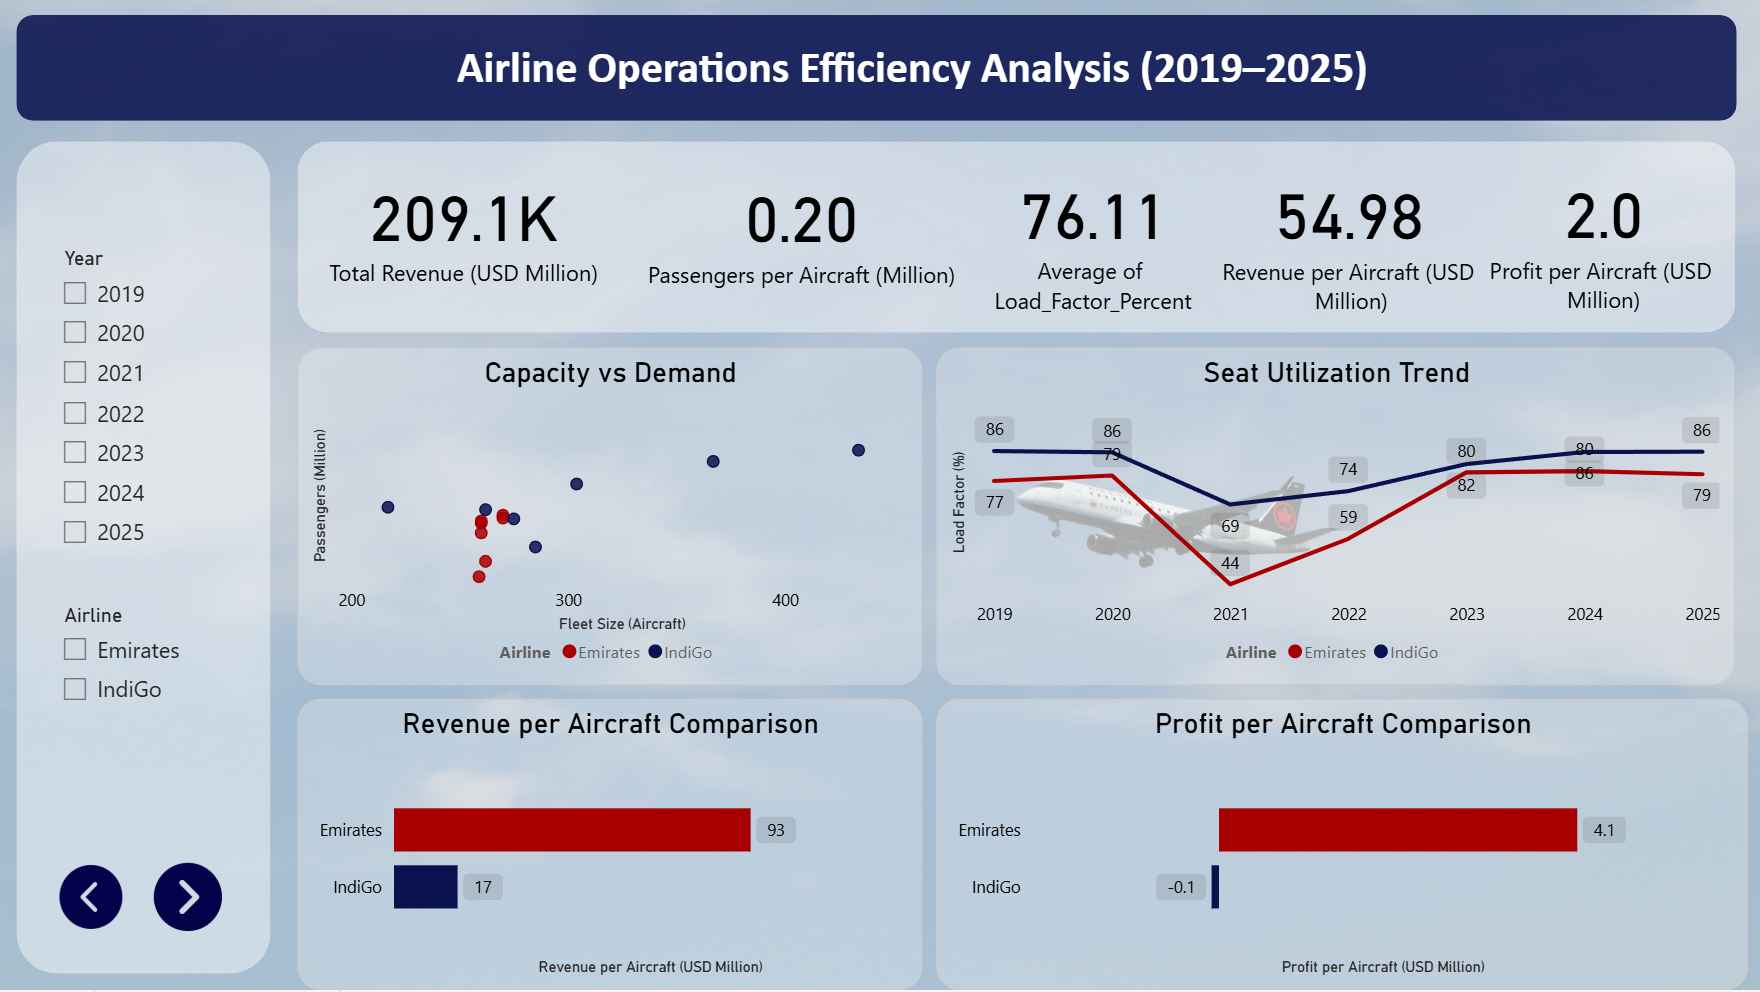

Layout of this report page (visuals, bound fields, positions):
{"tool":"powerbi","page":{"name":"Operational Efficiency","canvas":[1280,720],"ordinal":2},"visuals":[{"type":"shape","box":[12.2,10.8,1251.4,77],"z":0},{"type":"shape","box":[216.2,102.7,1045.9,139.2],"z":1000},{"type":"shape","box":[12.2,102.7,185.1,605.4],"z":2000},{"type":"clusteredBarChart","title":"Revenue per Aircraft Comparison","fields":{"Category":["Airline_Performance.Airline"],"Y":["Avg(Airline_Performance.Revenue_per_Aircraft_USD_Million)"]},"box":[216.2,508.1,454.1,212.2],"z":3000},{"type":"lineChart","title":"Seat Utilization Trend","fields":{"Category":["Airline_Performance.Year"],"Y":["Avg(Airline_Performance.Load_Factor_Percent)"],"Series":["Airline_Performance.Airline"]},"box":[681.1,252.7,581.1,245.9],"z":4000},{"type":"slicer","fields":{"Values":["Airline_Performance.Year"]},"box":[33.8,174.3,117.6,243.2],"z":5000},{"type":"card","fields":{"Values":["Sum(Airline_Performance.Revenue_USD_Million)"]},"box":[216.2,86.8,241.9,156.8],"z":6000},{"type":"card","fields":{"Values":["Airline_Performance.Passengers_per_Aircraft"]},"box":[458.1,90.5,250,150],"z":7000},{"type":"card","fields":{"Values":["Avg(Airline_Performance.Revenue_per_Aircraft_USD_Million)"]},"box":[882.4,73.3,195.9,179.7],"z":8000},{"type":"card","fields":{"Values":["Avg(Airline_Performance.Load_Factor_Percent)"]},"box":[683.8,72.6,223,181.1],"z":9000},{"type":"slicer","fields":{"Values":["Airline_Performance.Airline"]},"box":[33.8,433.8,117.6,95.9],"z":10000},{"type":"textbox","box":[327,24.3,685.1,78.4],"z":11000},{"type":"image","box":[34.9,623,63,59],"z":12000},{"type":"image","box":[105.4,623,62.2,59.5],"z":13000},{"type":"card","fields":{"Values":["Avg(Airline_Performance.Profit_per_Aircraft_USD_Million)"]},"box":[1054.1,65.9,225.7,194.6],"z":14000},{"type":"scatterChart","title":"Capacity vs Demand","fields":{"X":["Avg(Airline_Performance.Fleet_Size)"],"Y":["Sum(Airline_Performance.Passengers_Million)"],"Series":["Airline_Performance.Airline"],"Category":["Airline_Performance.Year"]},"box":[216.2,252.7,454.1,245.9],"z":15000},{"type":"barChart","title":"Profit per Aircraft Comparison","fields":{"Category":["Airline_Performance.Airline"],"Y":["Avg(Airline_Performance.Profit_per_Aircraft_USD_Million)"]},"box":[681.1,508.1,590.5,212.2],"z":16000}]}

Visuals, with their boxes in screenshot pixels (x1, y1, x2, y2), scaled from the page's 1280x720 canvas onto the 1760x992 screenshot:
shape: {"left": 17, "top": 15, "right": 1737, "bottom": 121}
shape: {"left": 297, "top": 141, "right": 1735, "bottom": 333}
shape: {"left": 17, "top": 141, "right": 271, "bottom": 976}
"Revenue per Aircraft Comparison" clusteredBarChart: {"left": 297, "top": 700, "right": 922, "bottom": 991}
"Seat Utilization Trend" lineChart: {"left": 937, "top": 348, "right": 1736, "bottom": 687}
slicer - Airline_Performance.Year: {"left": 46, "top": 240, "right": 208, "bottom": 575}
card - Sum(Airline_Performance.Revenue_USD_Million): {"left": 297, "top": 120, "right": 630, "bottom": 336}
card - Airline_Performance.Passengers_per_Aircraft: {"left": 630, "top": 125, "right": 974, "bottom": 331}
card - Avg(Airline_Performance.Revenue_per_Aircraft_USD_Million): {"left": 1213, "top": 101, "right": 1483, "bottom": 349}
card - Avg(Airline_Performance.Load_Factor_Percent): {"left": 940, "top": 100, "right": 1247, "bottom": 350}
slicer - Airline_Performance.Airline: {"left": 46, "top": 598, "right": 208, "bottom": 730}
textbox: {"left": 450, "top": 33, "right": 1392, "bottom": 141}
image: {"left": 48, "top": 858, "right": 135, "bottom": 940}
image: {"left": 145, "top": 858, "right": 230, "bottom": 940}
card - Avg(Airline_Performance.Profit_per_Aircraft_USD_Million): {"left": 1449, "top": 91, "right": 1759, "bottom": 359}
"Capacity vs Demand" scatterChart: {"left": 297, "top": 348, "right": 922, "bottom": 687}
"Profit per Aircraft Comparison" barChart: {"left": 937, "top": 700, "right": 1748, "bottom": 991}
